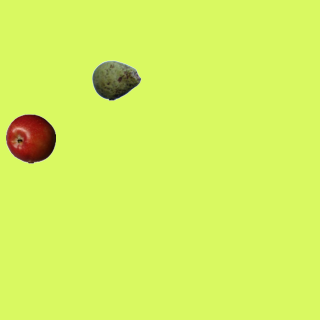Apple Braeburn: (5, 113, 55, 163)
Pear Stone: (91, 55, 141, 105)
